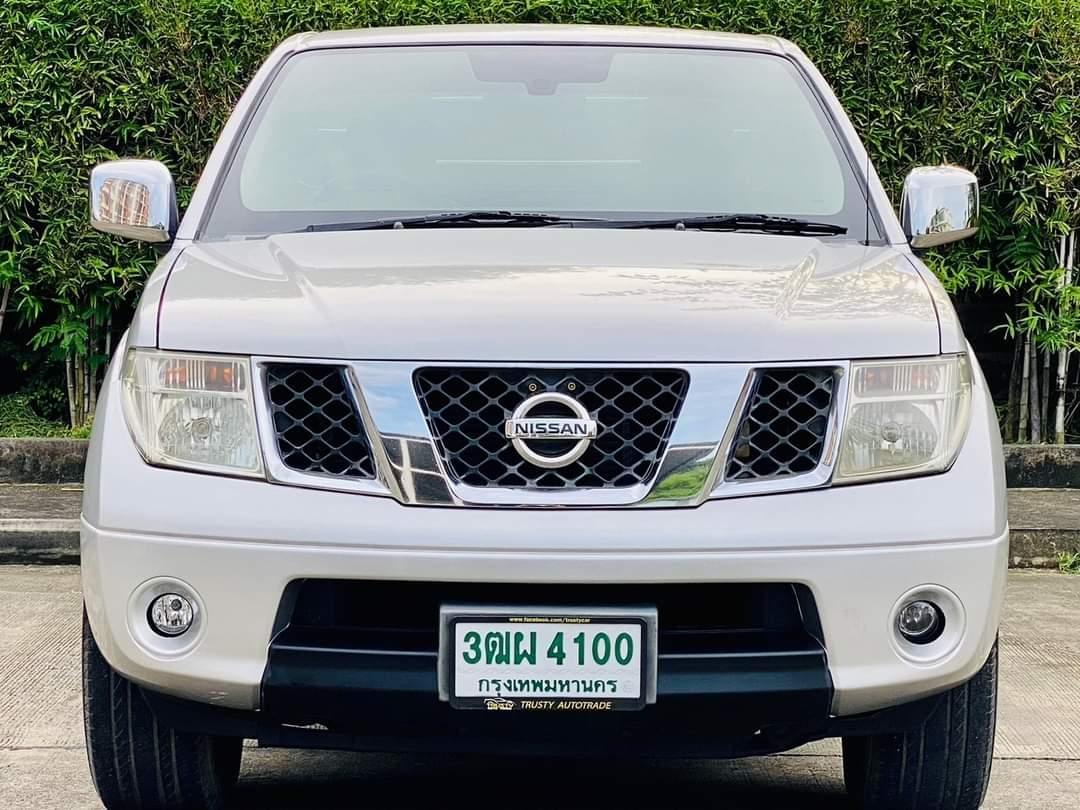license-plate: (446, 610, 650, 718)
